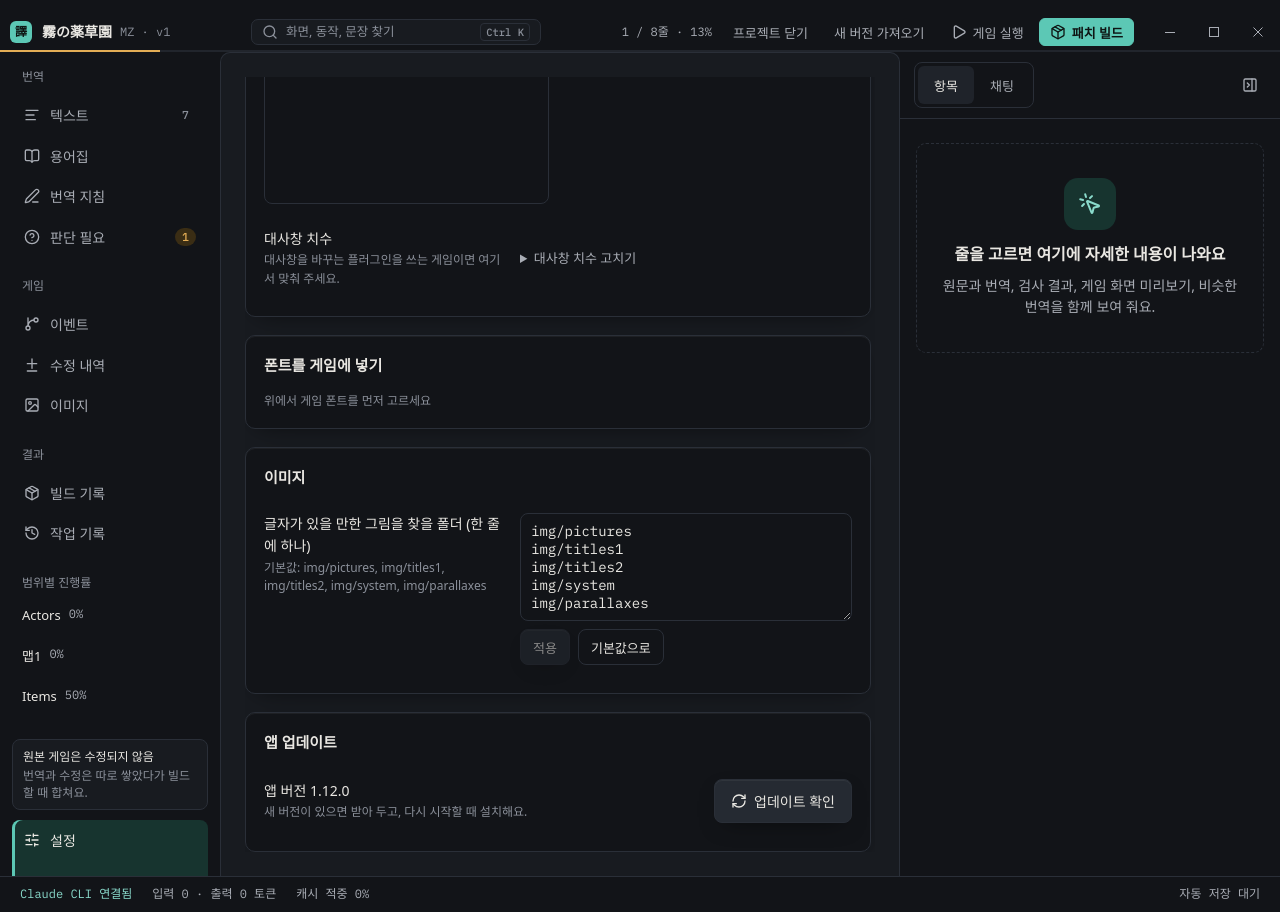
Test case: 설정: 앱 버전과 업데이트 확인, 받는 중, 받으면 다시 시작해서 설치
Later steps or results of the test are not shown.
(page scrolled)
Check: the text "霧の薬草園" is shown, box [42,21,112,43]
Check: the text "앱 버전 1.12.0" is shown, box [264,781,350,800]
Click the button "업데이트 확인" at [783, 801], box [714,779,852,823]
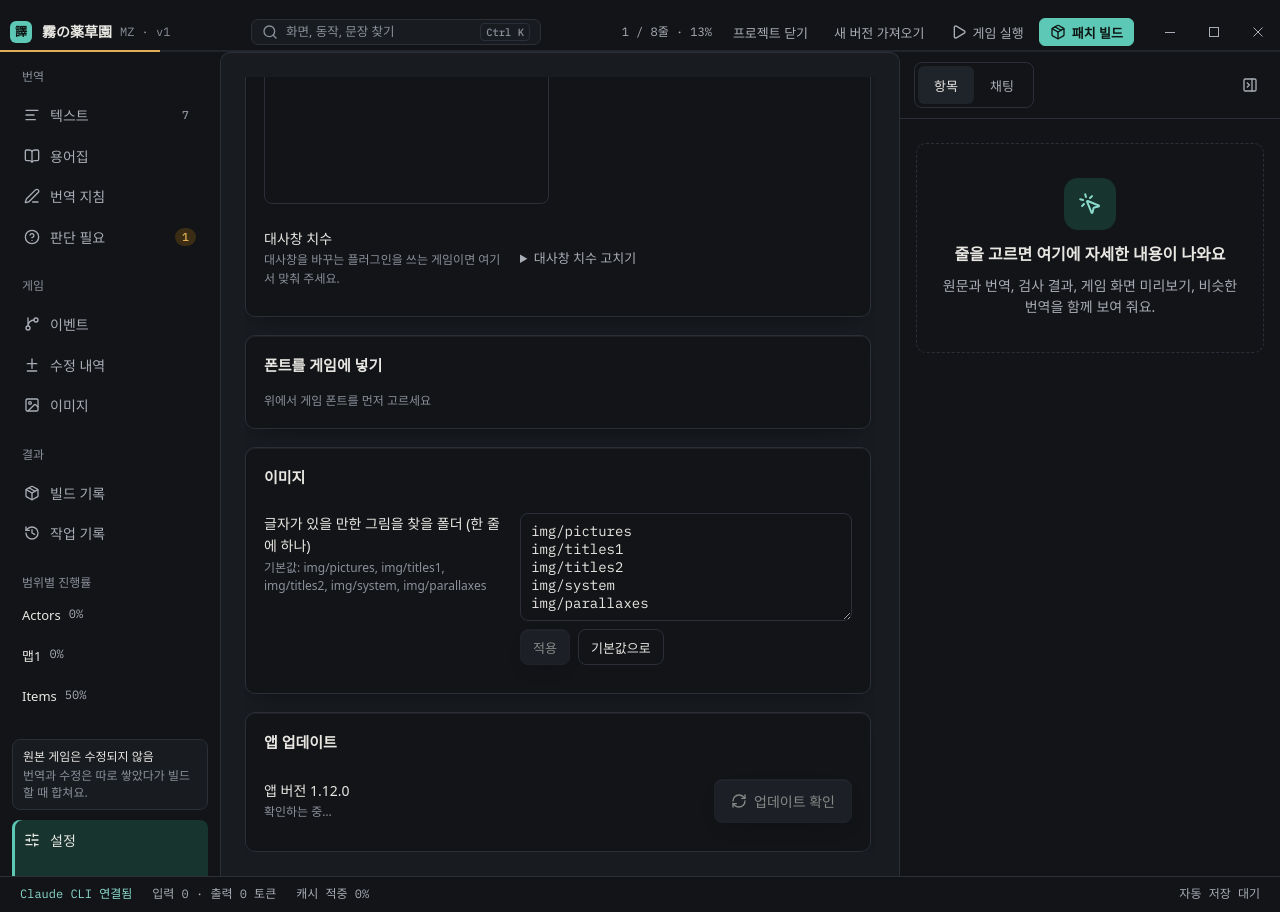
Check: the text "확인하는 중…" is shown, box [264,803,332,820]
Check: the button "업데이트 확인" is disabled, box [714,779,852,823]
